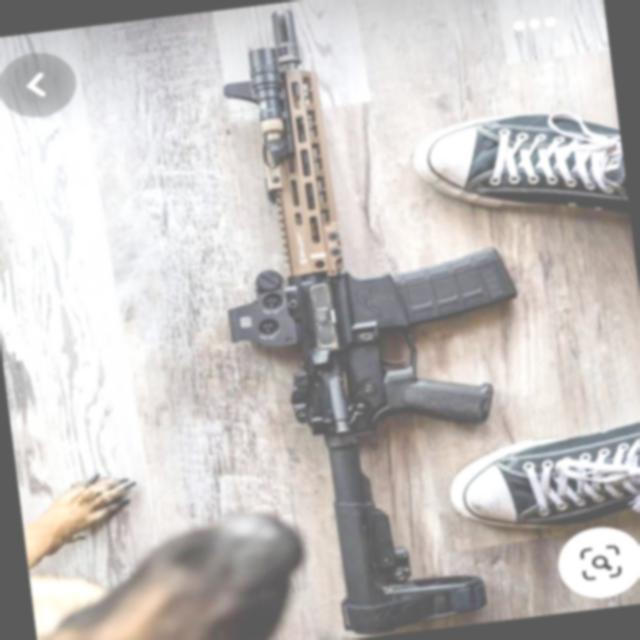m16: (146, 126, 534, 470)
